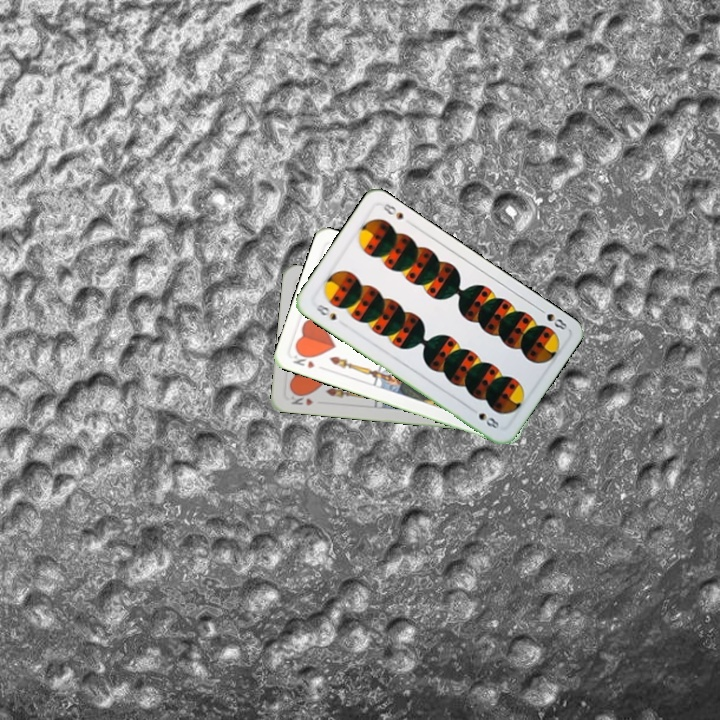HK: (289, 348, 317, 371), (287, 389, 316, 408)
S8: (534, 303, 571, 333), (312, 300, 339, 323)
